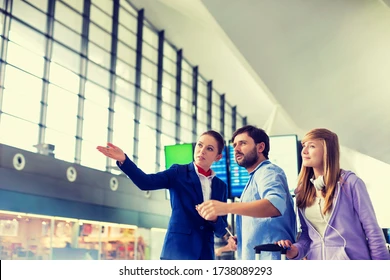pointing_gesture: (95, 142, 126, 163)
